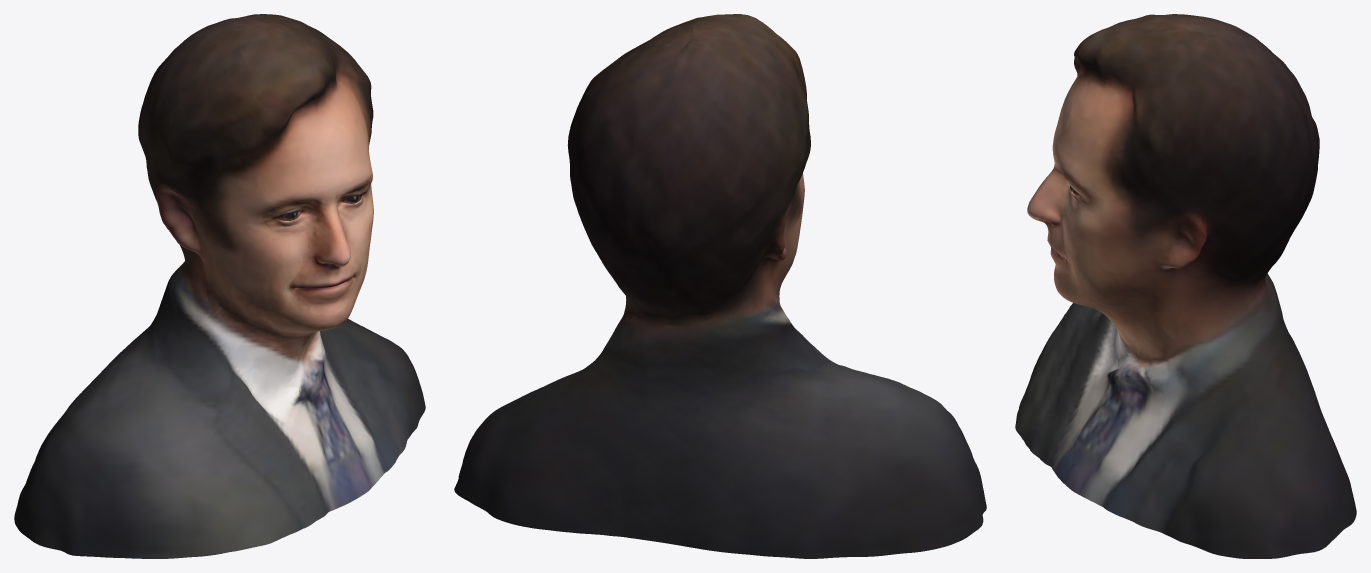
File: SaulGoodman.glb
The picture shows the model from 3 angles, left to right: view 1: azimuth 30°, elevation 25°; view 2: azimuth 150°, elevation 25°; view 3: azimuth 270°, elevation 25°; orthographic projection.
Parts seen in each view (by area): view 1: Object_2; view 2: Object_2; view 3: Object_2.
Boxes of the visible parts, x1=… form: Object_2: x1=14, y1=14, x2=425, y2=558; Object_2: x1=454, y1=14, x2=986, y2=558; Object_2: x1=1015, y1=14, x2=1356, y2=558.
Size of the model in its own units: 0.4178 by 0.4005 by 0.28.
1 material, 1 textured.
